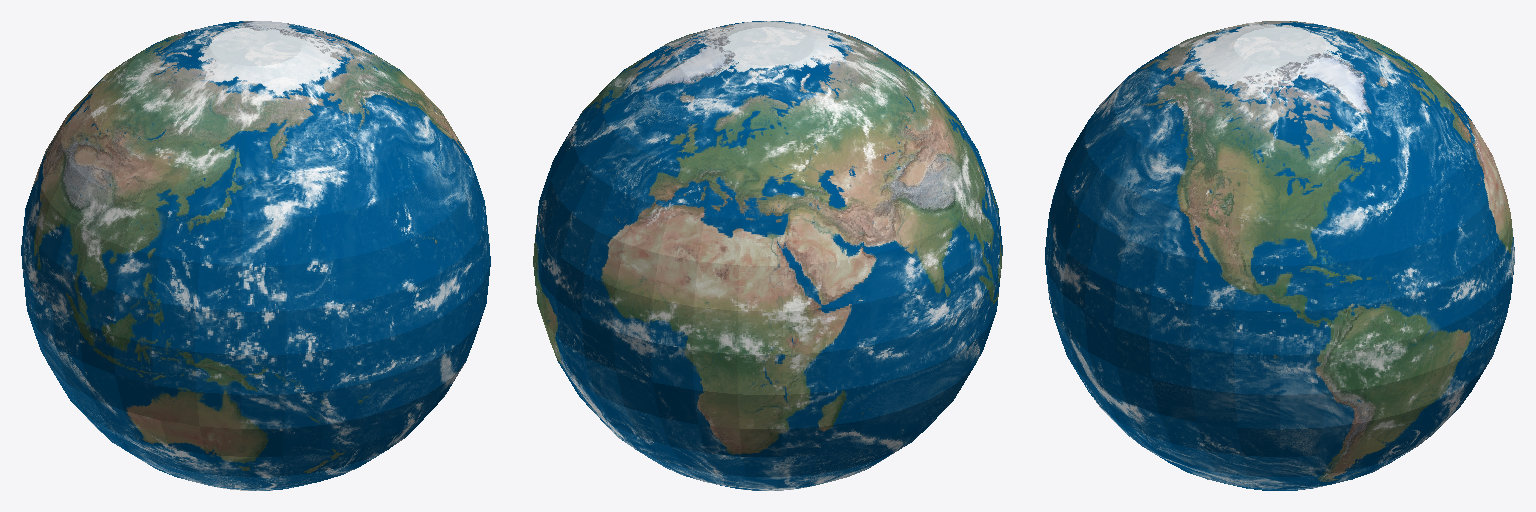
3 views of the same model, side by side, from view 1: azimuth 30°, elevation 25°; view 2: azimuth 150°, elevation 25°; view 3: azimuth 270°, elevation 25° (orthographic).
Visible parts, largest first — view 1: Sphere; view 2: Sphere; view 3: Sphere.
Part boxes in pixels (x1,y1,x2,y2): Sphere: (21, 21, 490, 490); Sphere: (533, 21, 1002, 490); Sphere: (1045, 21, 1514, 490).
Bounding box in the file's own units: 2 × 1.97 × 2.
1 materials, 1 textured.